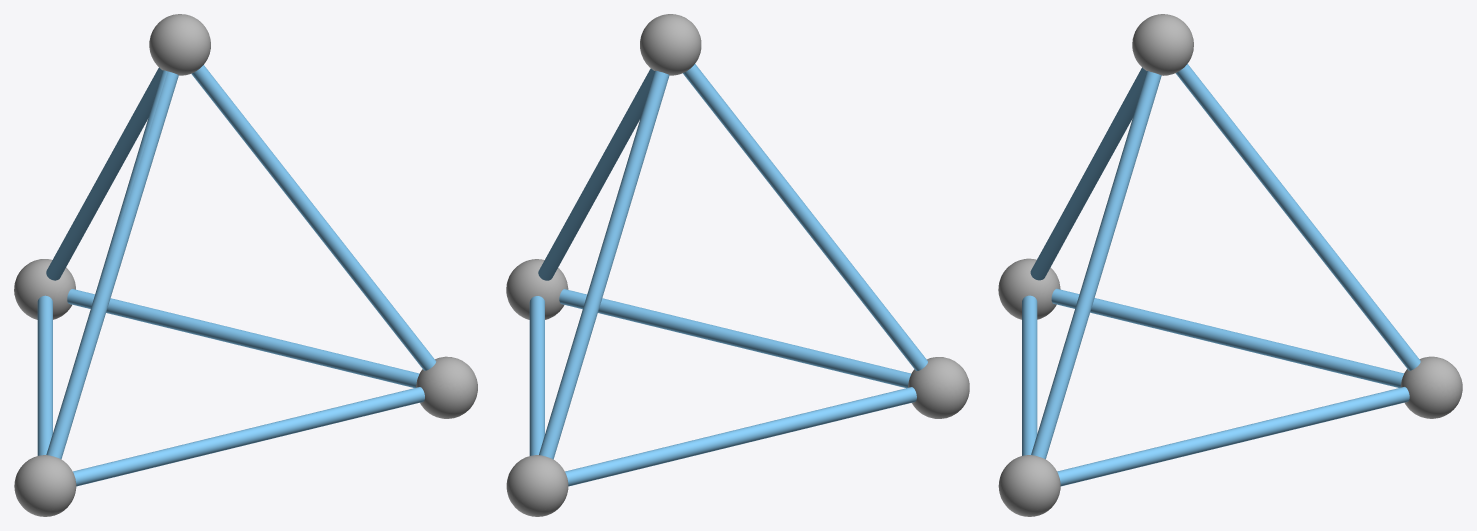
Rendered from tetrahedron.glb.
The picture shows the model from 3 angles, left to right: view 1: azimuth 30°, elevation 25°; view 2: azimuth 150°, elevation 25°; view 3: azimuth 270°, elevation 25°; orthographic projection.
Bounding box in the file's own units: 6.8 × 5.7 × 6.
